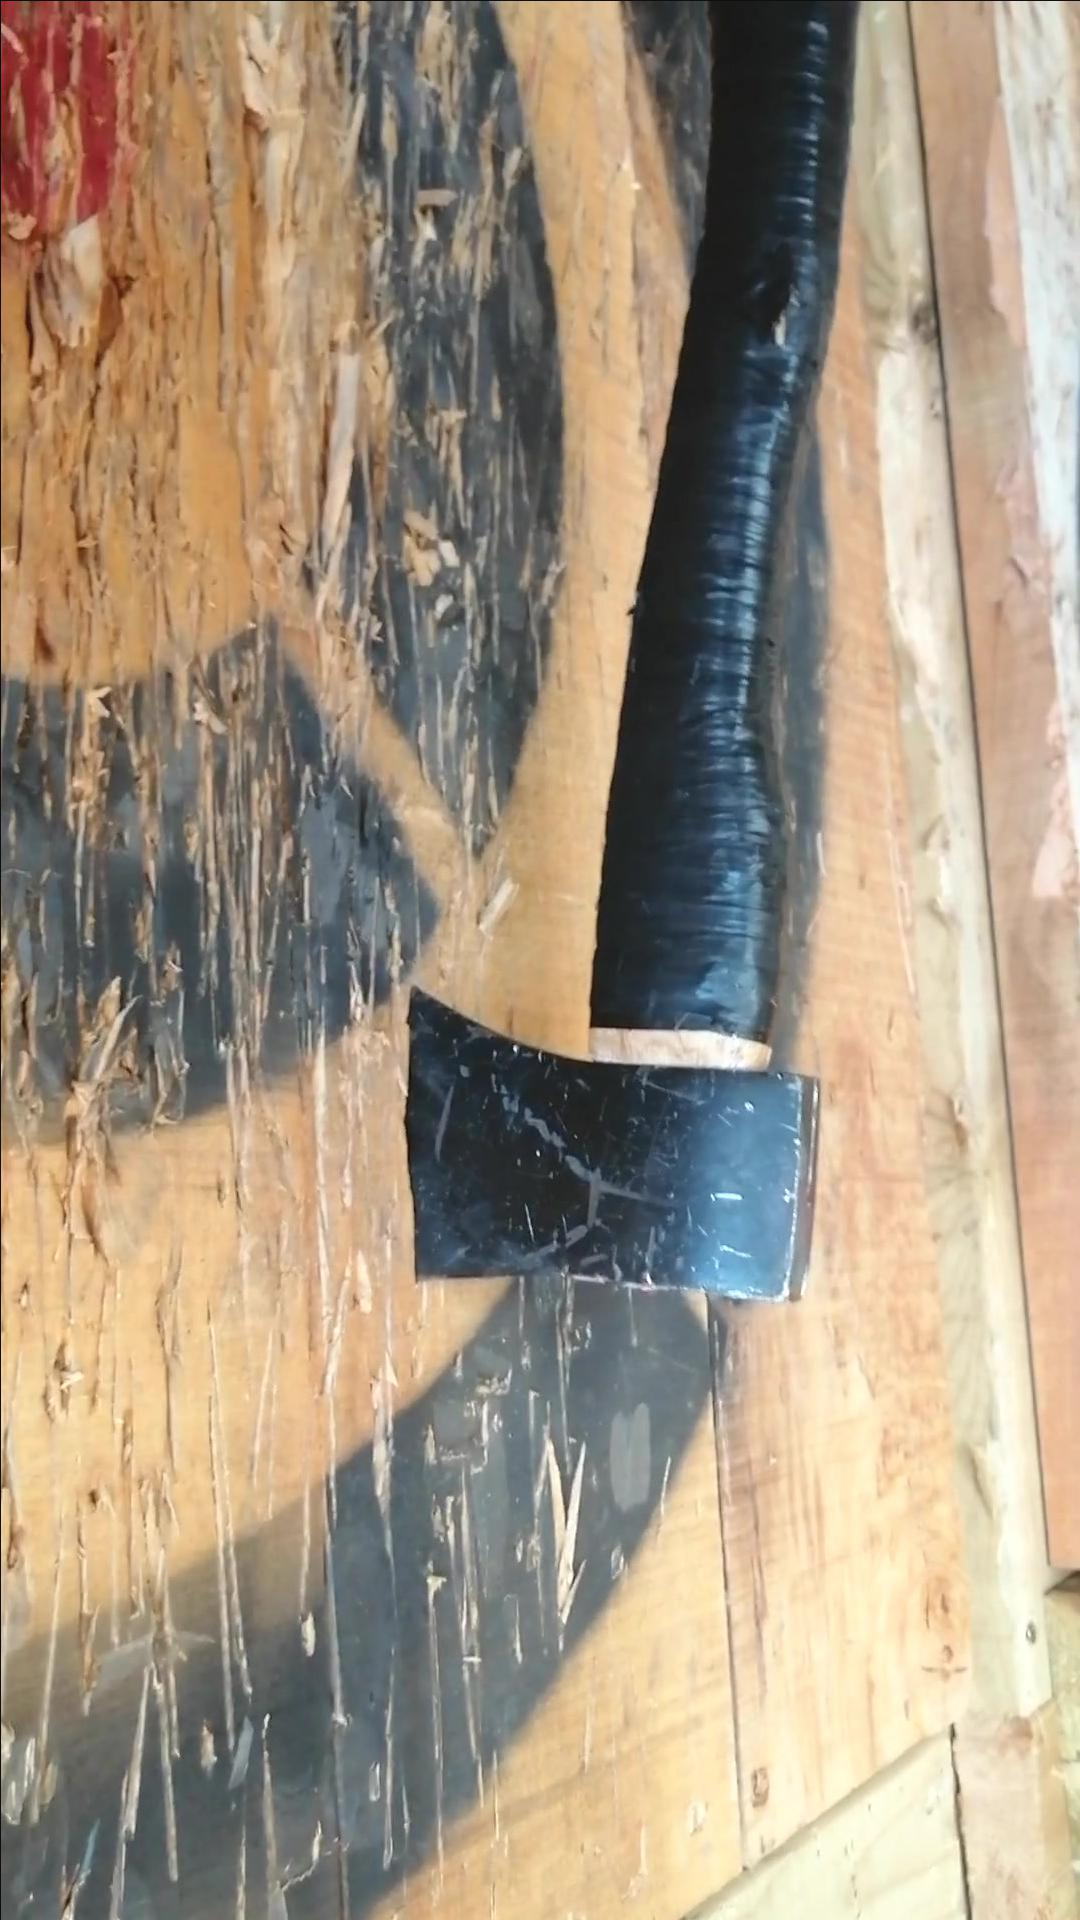Hand Axe: (402, 973, 829, 1305)
